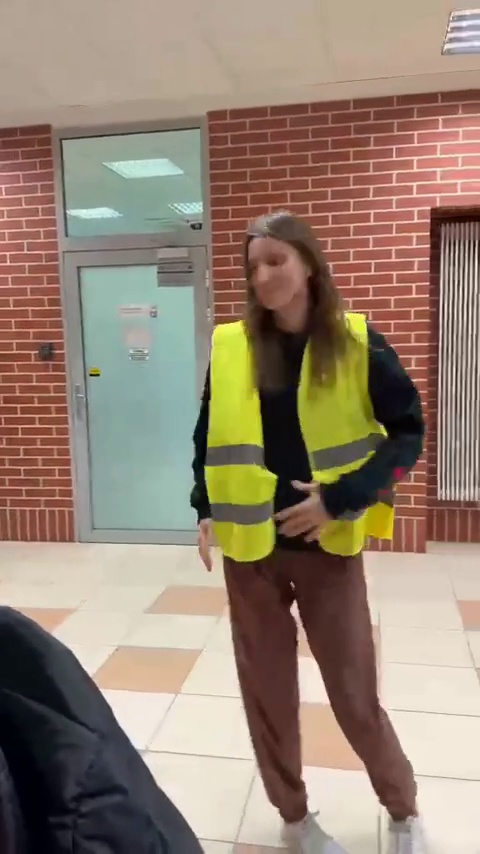vest: (189, 196, 443, 854)
